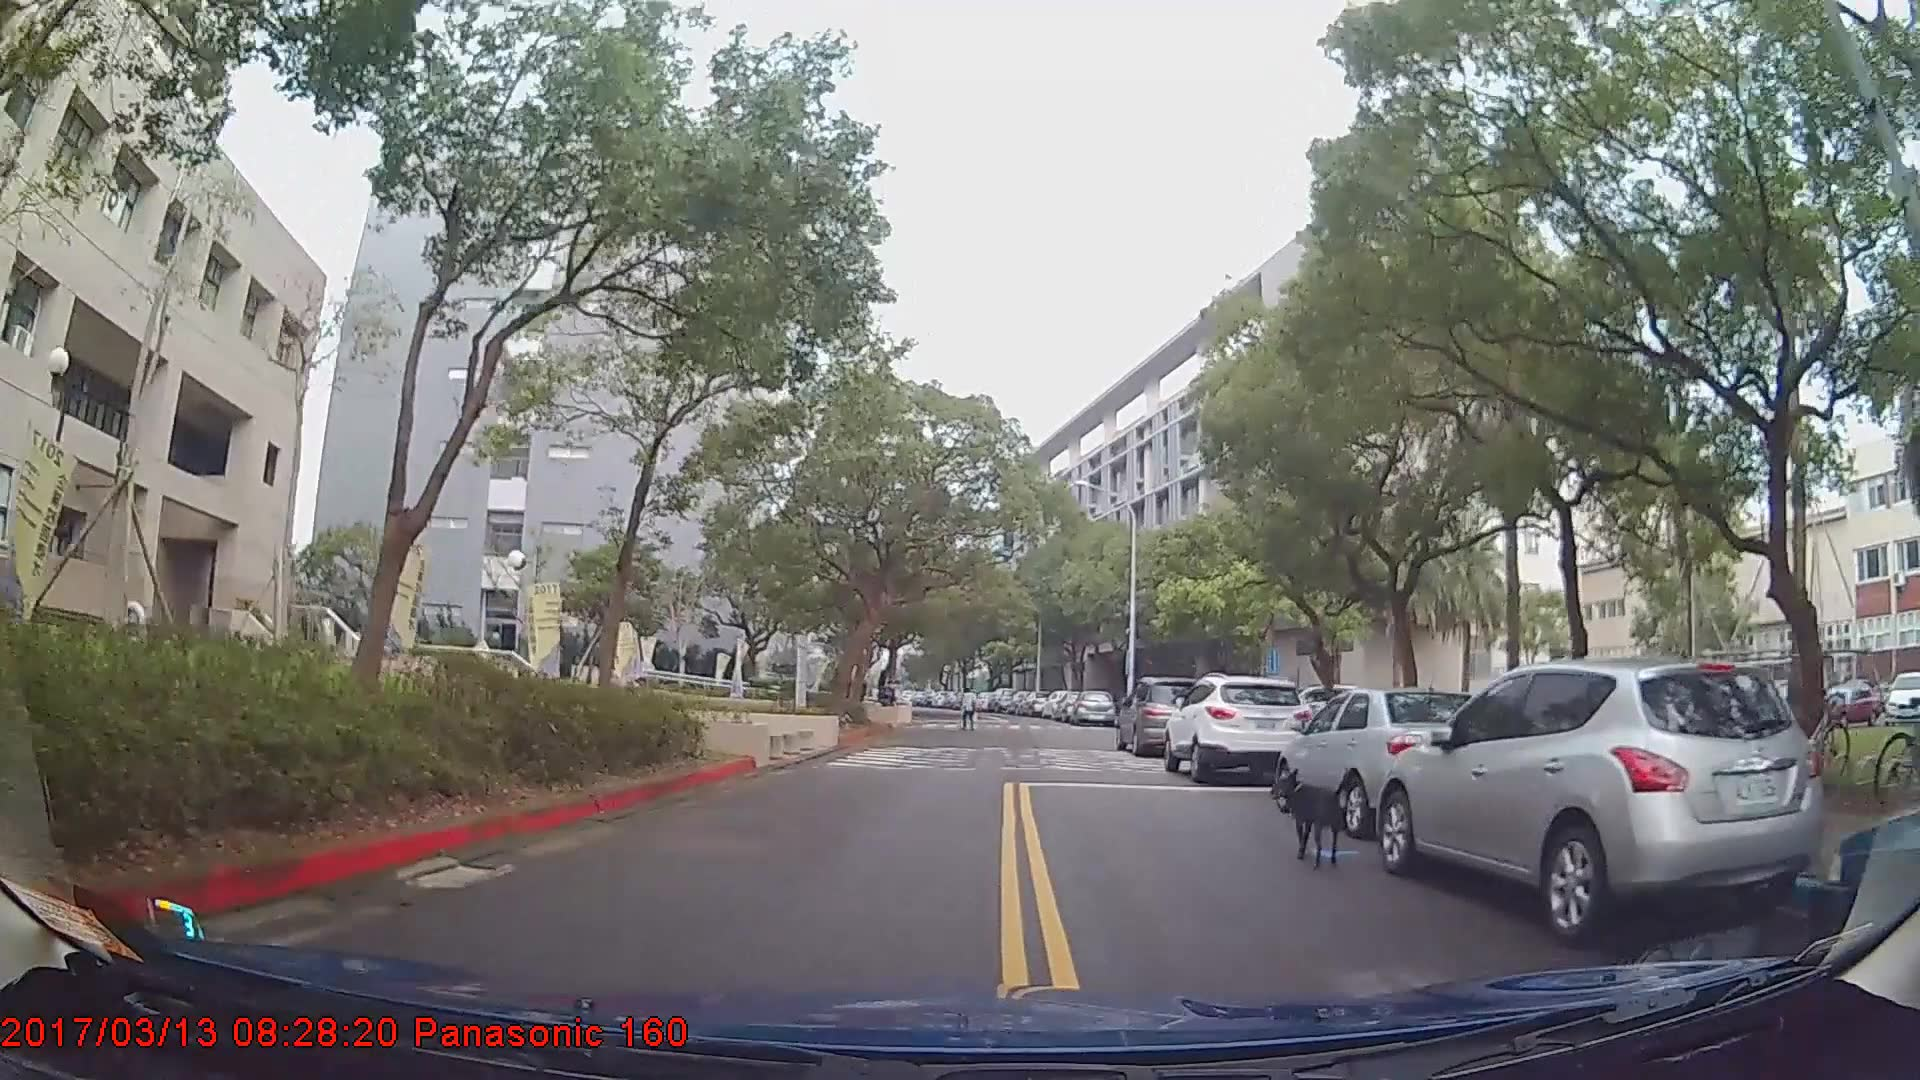pedestrian: (959, 687, 980, 733)
vehicle: (1373, 656, 1837, 941), (1276, 686, 1499, 837), (1164, 669, 1314, 780), (1113, 674, 1221, 753), (1071, 686, 1118, 726), (1884, 670, 1920, 721), (985, 686, 1014, 714)
